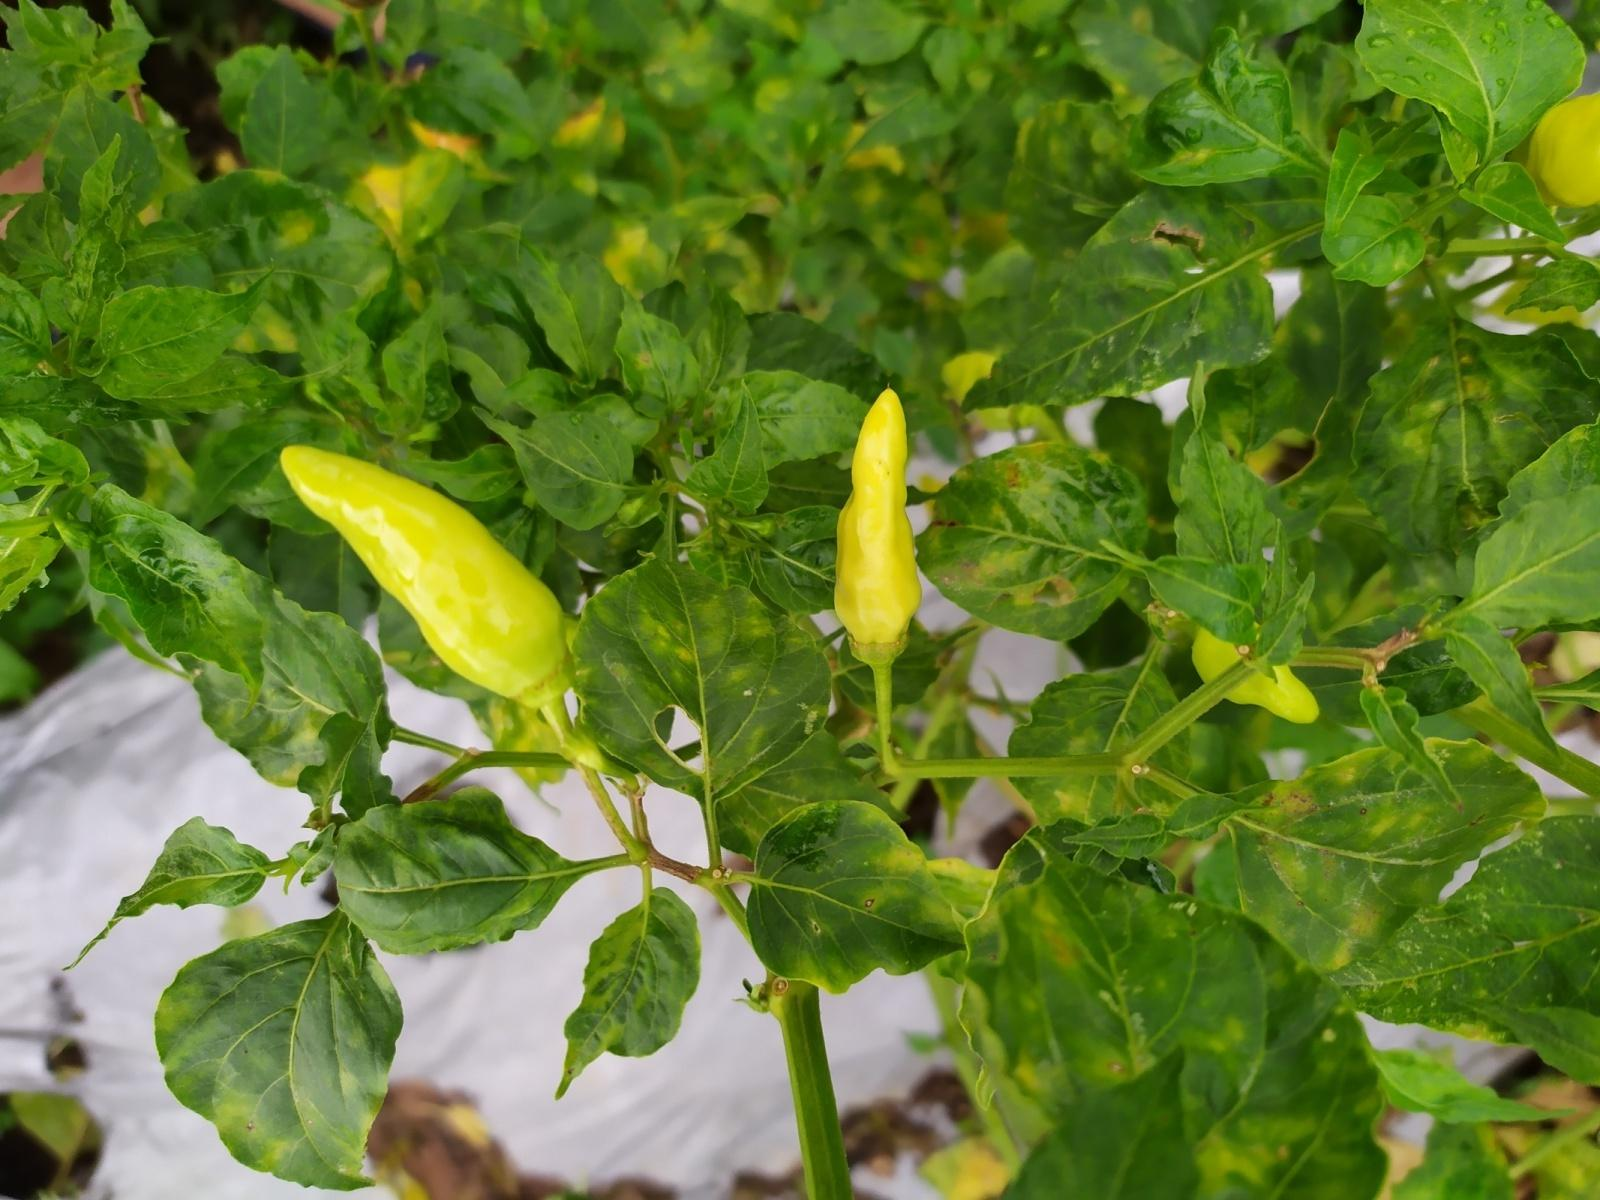cabai_normal: (278, 445, 574, 706), (833, 387, 921, 664)
